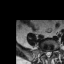CCS_normal: (47, 49, 49, 59)
LFS_severe_stenosis: (51, 48, 53, 55)
LLS_normal: (49, 49, 51, 58)
RFS_normal: (43, 48, 45, 55)
RLS_normal: (45, 49, 47, 58)
